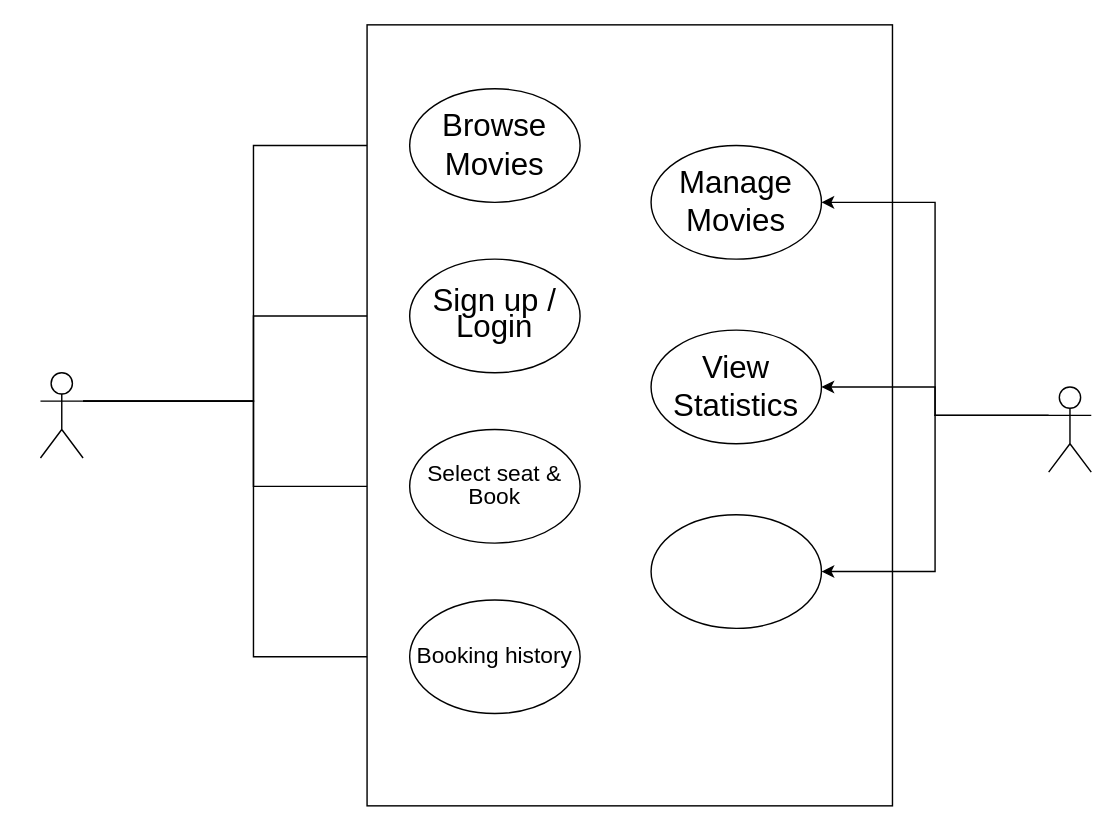
Some shapes in this 1118 by 831 pixel diagram are drawn without their labels. Each missing label, with the centre of its shape:
"Admin" belongs at [1069,429].
"Customer" belongs at [61,414].
"Manage Hall Capacity" belongs at [735,570].
